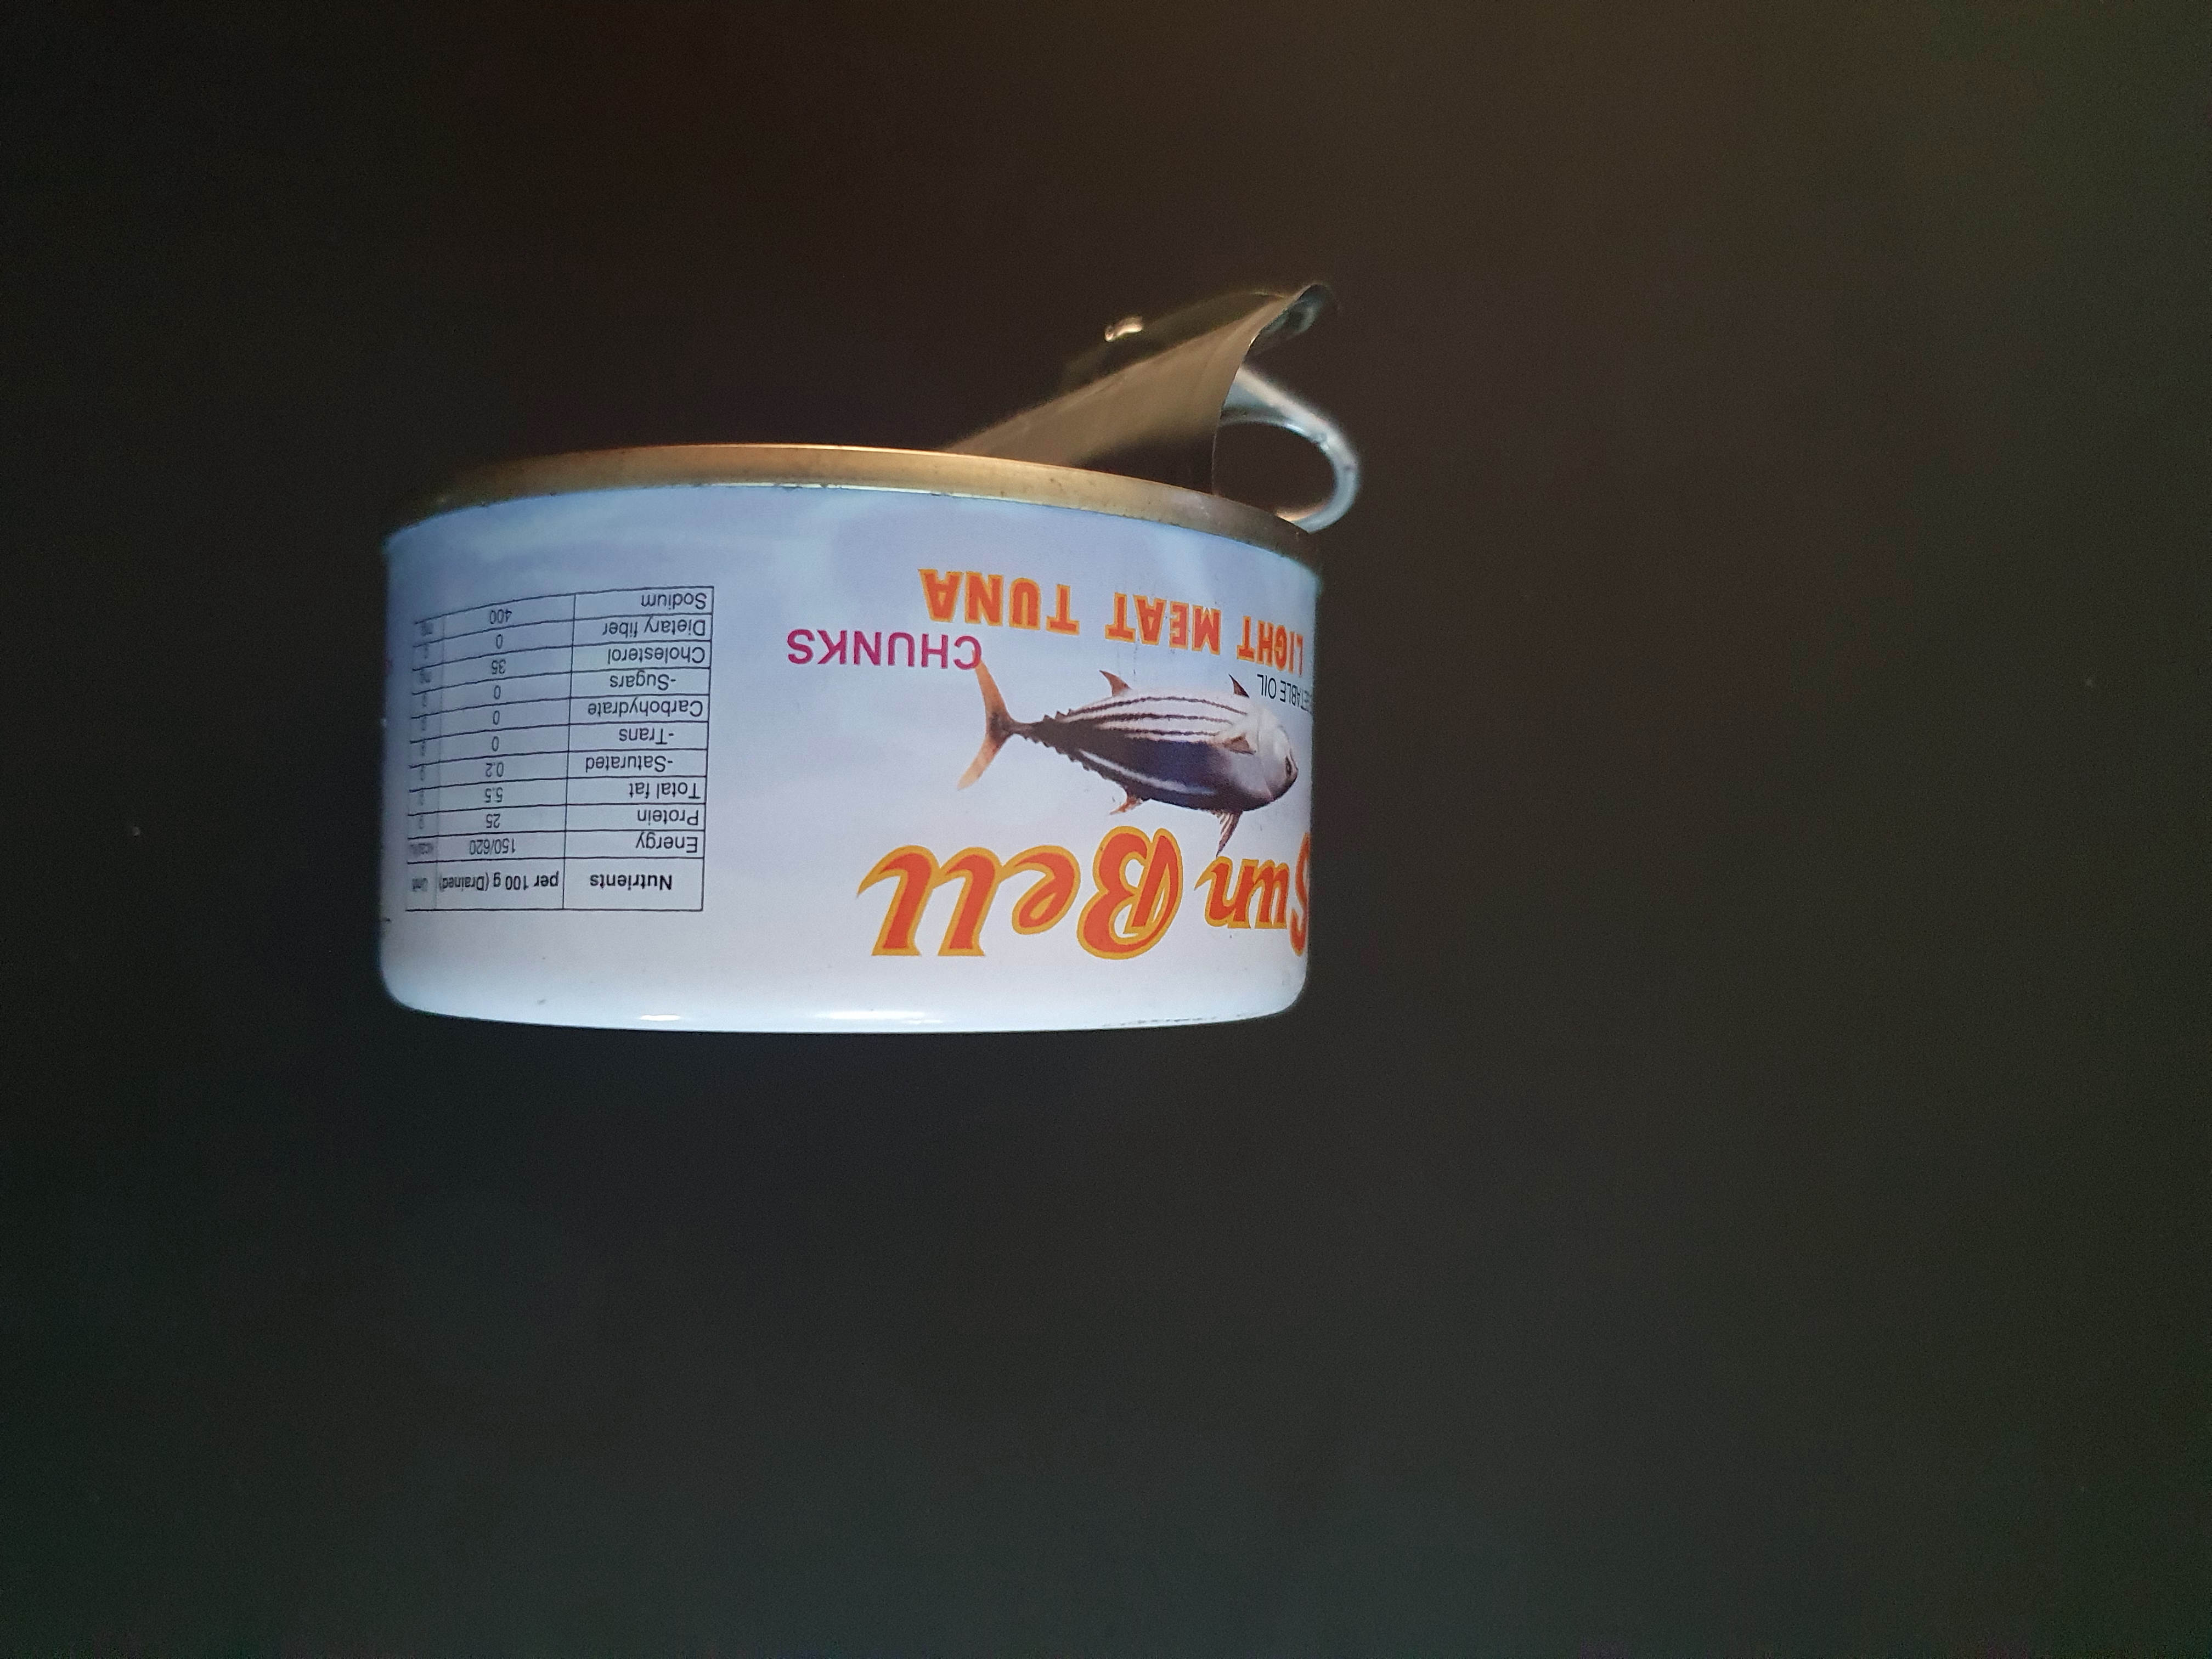metal: (286, 225, 1399, 1080)
